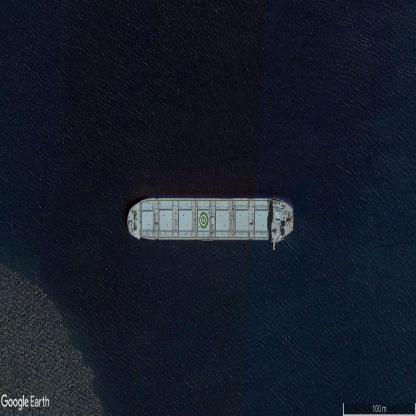ship: (127, 195, 293, 246)
